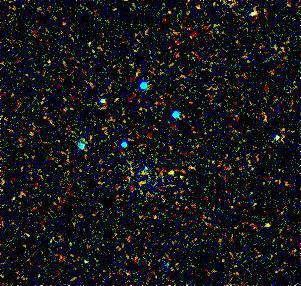star: (157, 159, 187, 189)
